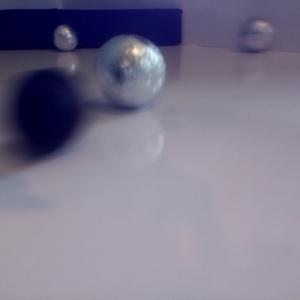zone: (1, 7, 183, 49)
